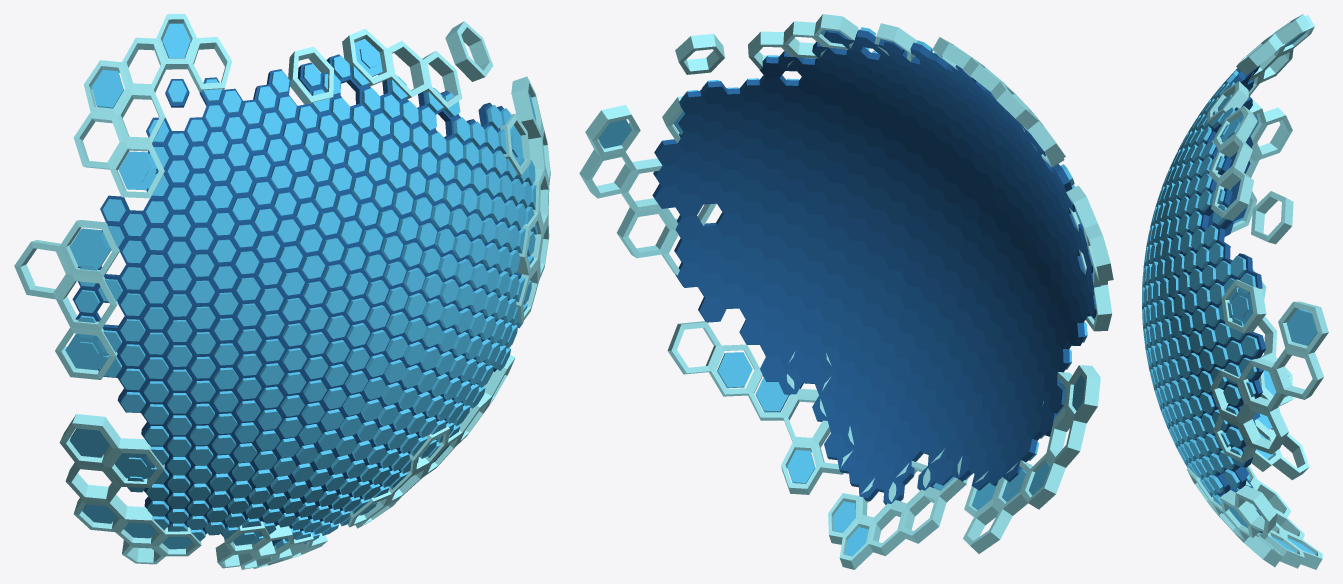
Rendered from escudo_1_esfera.obj.
The picture shows the model from 3 angles, left to right: view 1: azimuth 30°, elevation 25°; view 2: azimuth 150°, elevation 25°; view 3: azimuth 270°, elevation 25°; orthographic projection. The views are drawn at different scales.
Parts seen in each view (by area): view 1: escudo_1_esfera; view 2: escudo_1_esfera; view 3: escudo_1_esfera.
Boxes of the visible parts, x1,y1,x2,y2 form: escudo_1_esfera: [14, 14, 550, 569]; escudo_1_esfera: [579, 14, 1113, 569]; escudo_1_esfera: [1142, 14, 1328, 569].
Bounding box in the file's own units: 4.1 × 4.14 × 1.37.
Materials: 1 (1 with a texture image).
